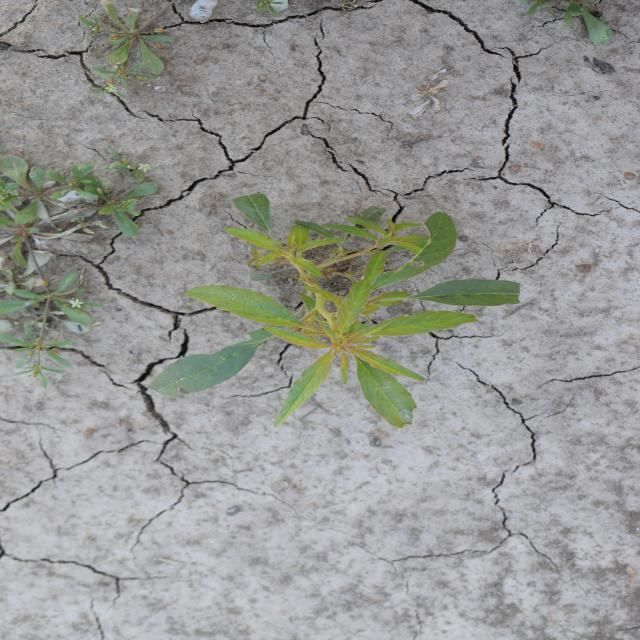Carpetweed: (1, 149, 162, 386), (70, 2, 178, 102)
Waterhemp: (144, 192, 527, 432)
